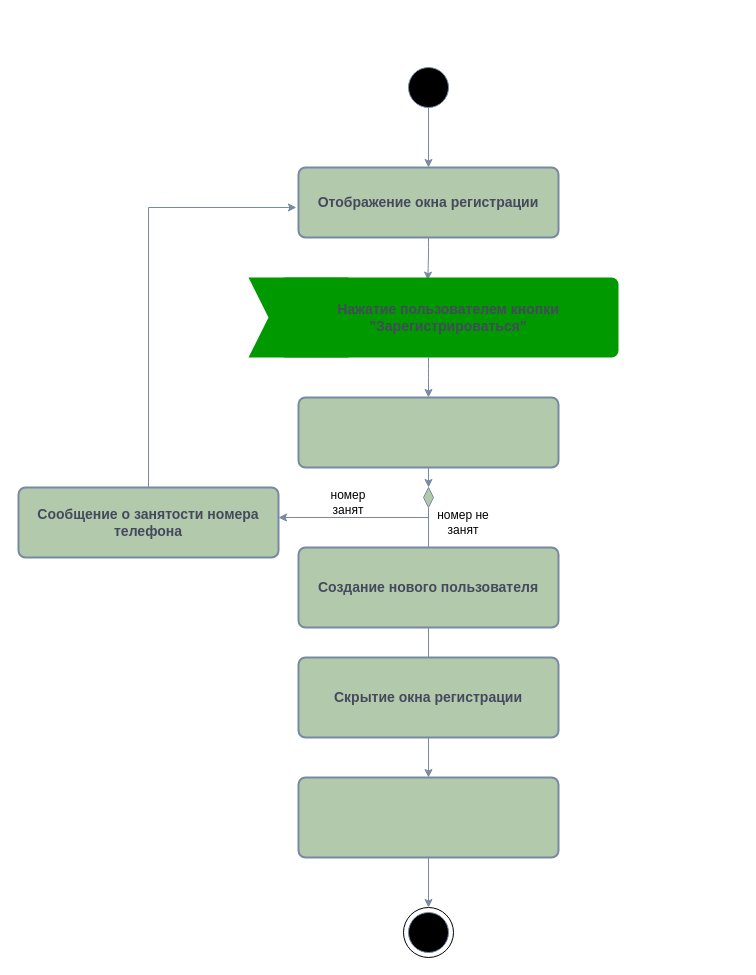
This 756x975 diagram has some shape labels left out. The shapes that lost their labels are listed below. From the top down, each one's centre as x and y in pixels, then its label:
At pixel 428 432: "Проверка уникальности номера телефона".
At pixel 428 817: "Перемещение к профилю".
